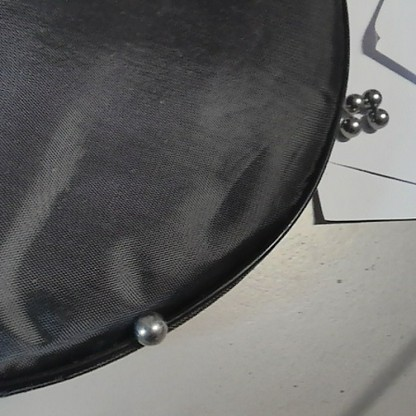ironball: (137, 315, 167, 345), (340, 118, 361, 137), (369, 108, 388, 128), (343, 93, 362, 111), (364, 89, 381, 105)
